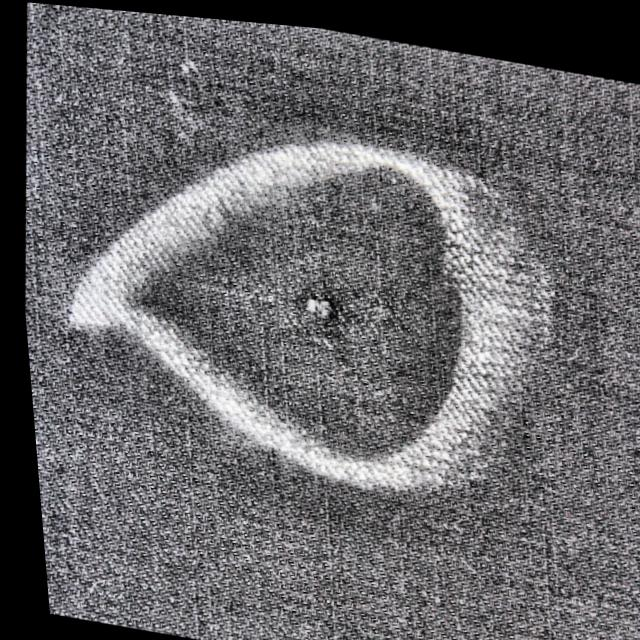Hole: (280, 274, 357, 329)
